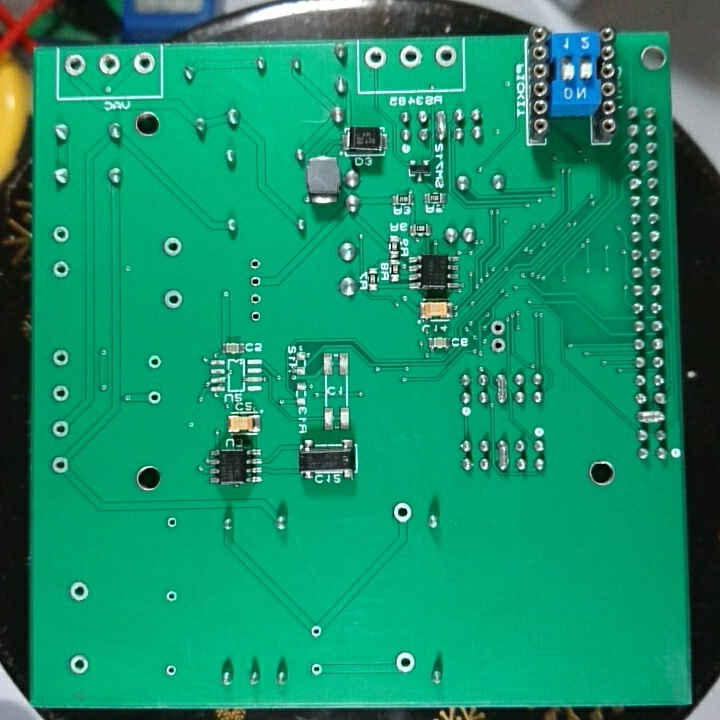F: (397, 43, 423, 72), (393, 649, 419, 678), (96, 52, 121, 80), (63, 52, 88, 80), (362, 46, 388, 72), (161, 234, 187, 260), (131, 51, 156, 78), (390, 499, 414, 527), (67, 580, 92, 606), (433, 43, 457, 70), (67, 651, 91, 678), (163, 287, 184, 313), (488, 335, 511, 357), (51, 347, 72, 369), (51, 258, 71, 281), (51, 418, 71, 440), (48, 454, 70, 474), (488, 317, 510, 337), (51, 223, 70, 246), (50, 383, 71, 403), (246, 306, 266, 326), (163, 587, 181, 607), (246, 287, 264, 306), (164, 513, 182, 532), (163, 660, 180, 680), (145, 353, 163, 371), (144, 388, 162, 406), (308, 660, 327, 677), (247, 271, 264, 289), (307, 622, 324, 638), (248, 255, 263, 272)
P: (635, 405, 670, 428), (431, 107, 450, 143), (493, 372, 509, 409), (495, 437, 511, 473)
